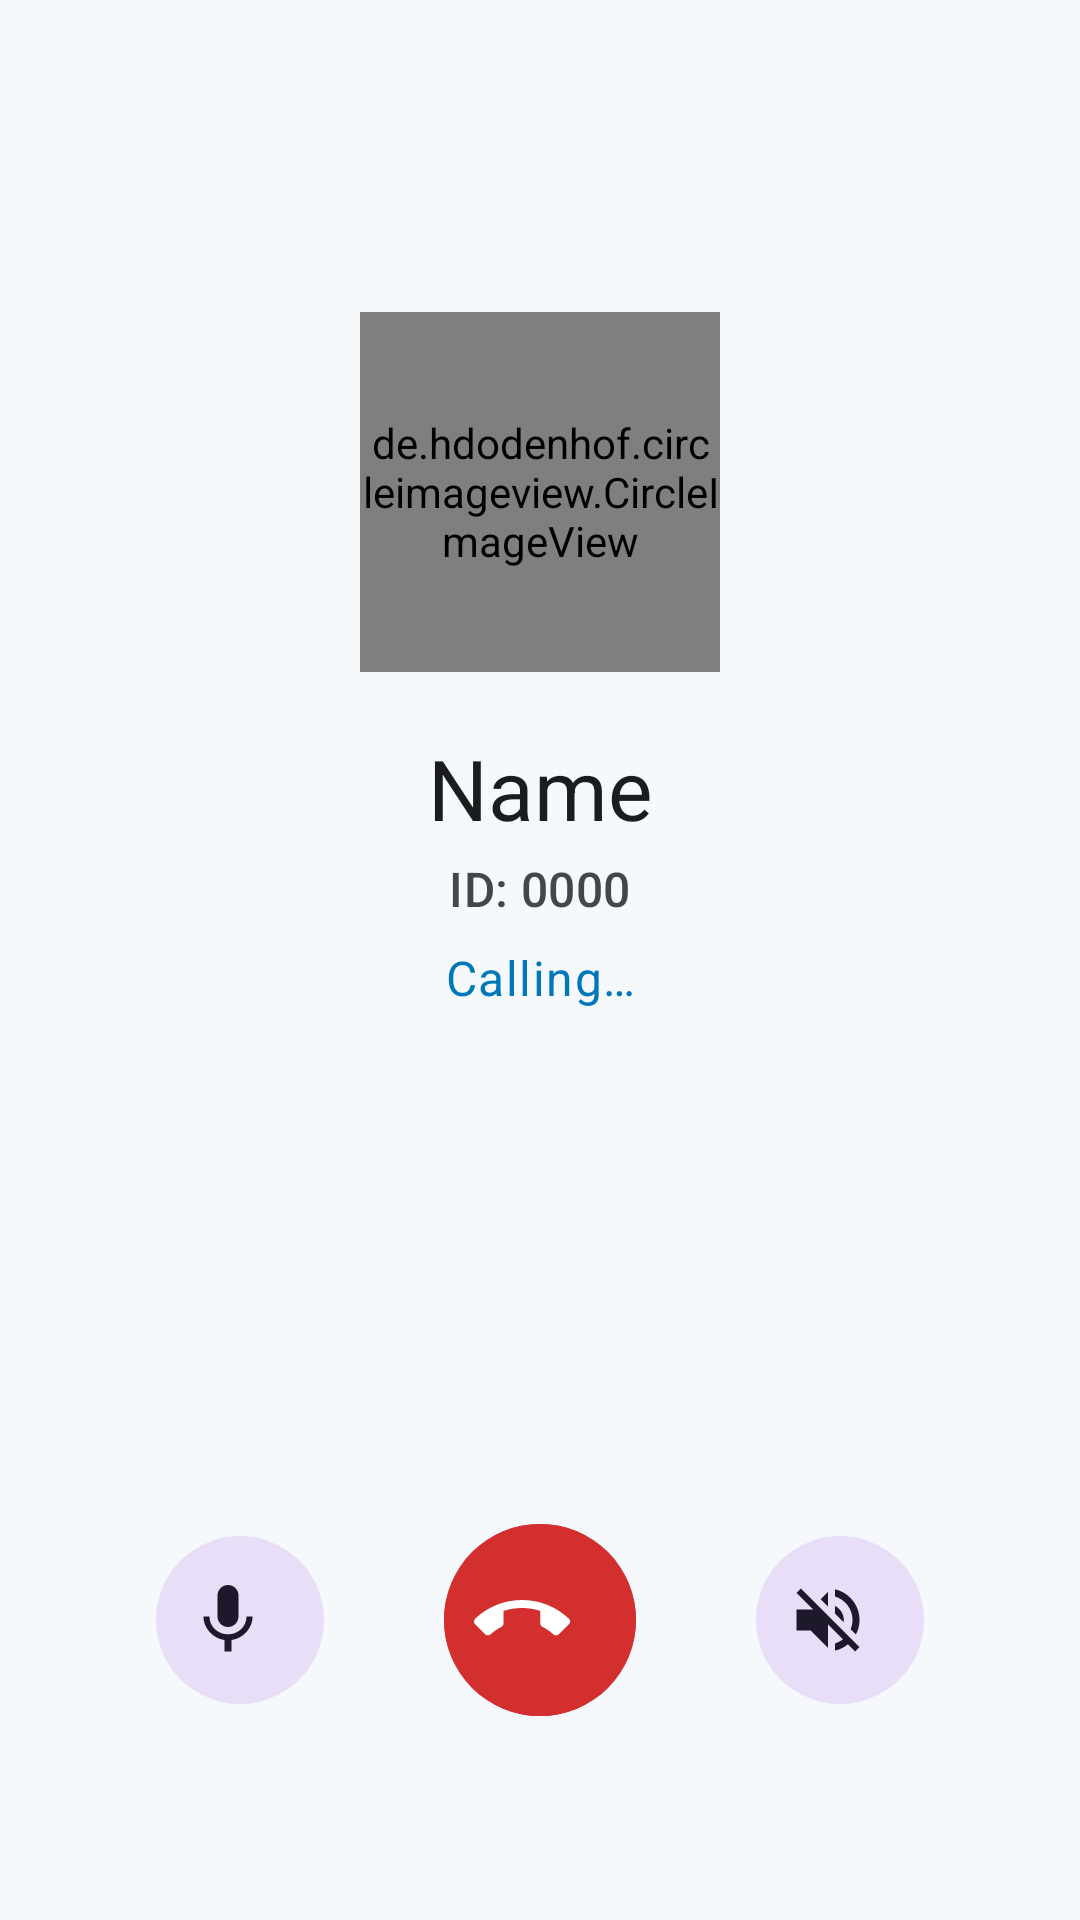

Icon click points for this 1080x1920 phone screenshot, format (x,y):
call end: (540,1620)
mic on: (240,1620)
speaker off: (840,1620)
